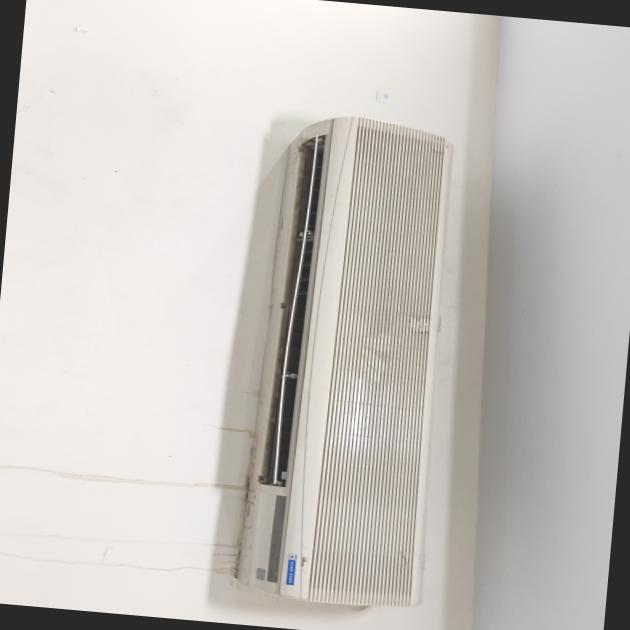air conditioner: (201, 100, 481, 624)
